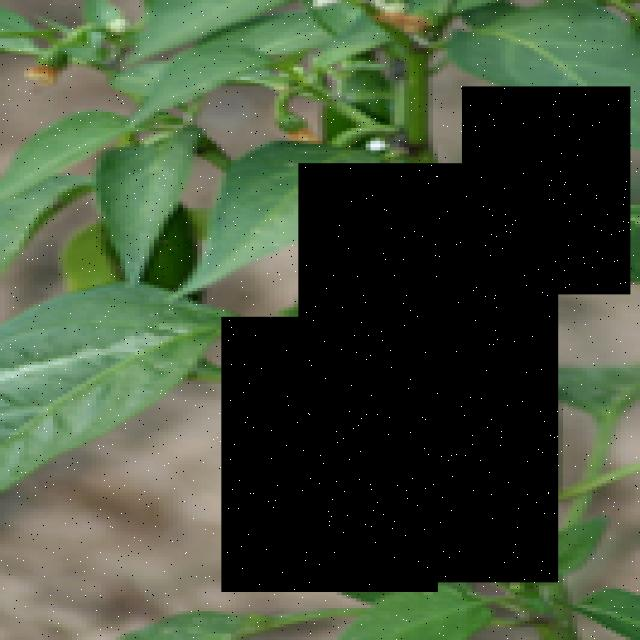Chili_Pepper: (221, 320, 439, 594), (405, 272, 560, 582), (297, 166, 463, 403), (465, 88, 634, 294)
